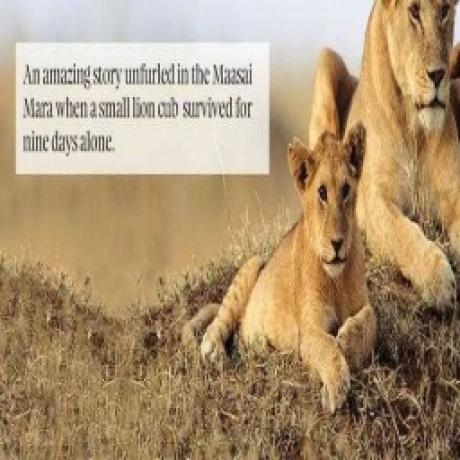Lion: (188, 122, 383, 410), (312, 0, 460, 309)
